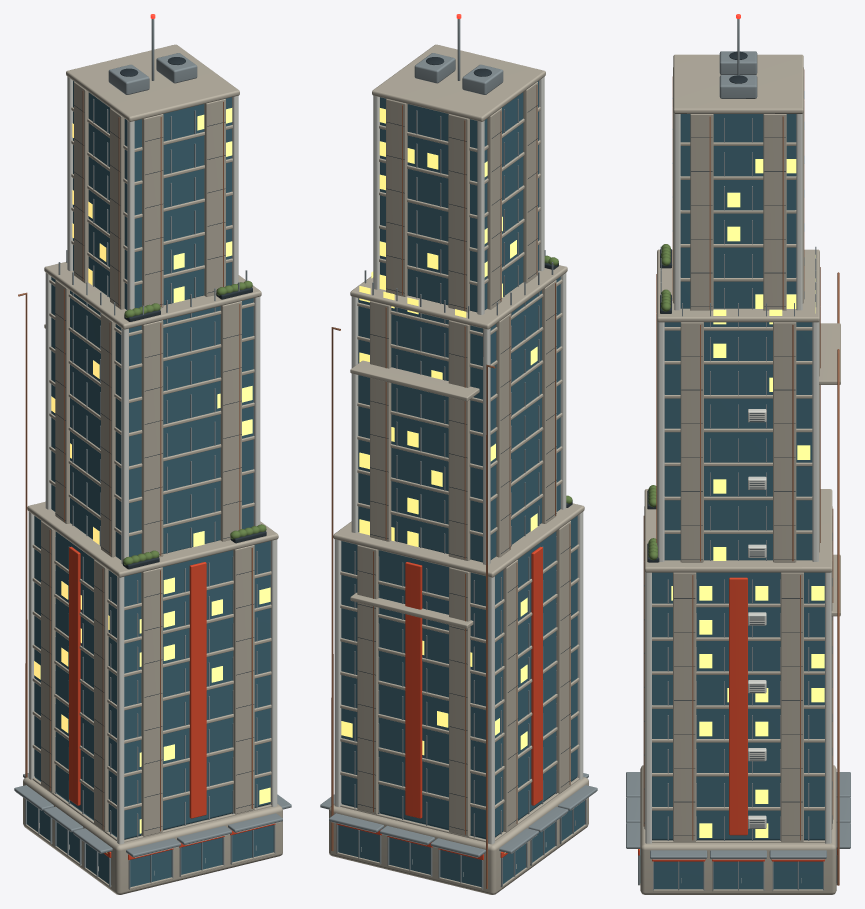
File: tower-3.glb
The picture shows the model from 3 angles, left to right: view 1: azimuth 30°, elevation 25°; view 2: azimuth 150°, elevation 25°; view 3: azimuth 270°, elevation 25°; orthographic projection.
Visible parts, largest first — view 1: NC mineral concrete.003, NC sapphire glazing.003, NC ceramic ivory.003, NC brushed titanium.003, NC vermilion.001, NC oxidized copper.003, NC amber.003, NC graphite.003, NC foliage.003; view 2: NC mineral concrete.003, NC sapphire glazing.003, NC ceramic ivory.003, NC brushed titanium.003, NC vermilion.001, NC oxidized copper.003, NC amber.003, NC graphite.003; view 3: NC mineral concrete.003, NC sapphire glazing.003, NC ceramic ivory.003, NC brushed titanium.003, NC oxidized copper.003, NC vermilion.001, NC amber.003, NC graphite.003, NC foliage.003.
Part boxes in pixels (x1=…): NC mineral concrete.003: x1=23, y1=44, x2=282, y2=894; NC sapphire glazing.003: x1=27, y1=81, x2=273, y2=887; NC ceramic ivory.003: x1=16, y1=77, x2=280, y2=875; NC brushed titanium.003: x1=14, y1=19, x2=291, y2=889; NC vermilion.001: x1=69, y1=546, x2=275, y2=859; NC oxidized copper.003: x1=18, y1=91, x2=252, y2=831; NC amber.003: x1=34, y1=108, x2=270, y2=853; NC graphite.003: x1=41, y1=57, x2=266, y2=830; NC foliage.003: x1=123, y1=280, x2=266, y2=565; NC mineral concrete.003: x1=329, y1=44, x2=588, y2=894; NC sapphire glazing.003: x1=338, y1=81, x2=584, y2=887; NC ceramic ivory.003: x1=331, y1=77, x2=595, y2=876; NC brushed titanium.003: x1=320, y1=19, x2=597, y2=889; NC vermilion.001: x1=336, y1=546, x2=542, y2=859; NC oxidized copper.003: x1=331, y1=85, x2=570, y2=888; NC amber.003: x1=341, y1=108, x2=537, y2=853; NC graphite.003: x1=357, y1=57, x2=572, y2=830; NC mineral concrete.003: x1=638, y1=54, x2=840, y2=894; NC sapphire glazing.003: x1=640, y1=114, x2=836, y2=889; NC ceramic ivory.003: x1=645, y1=114, x2=831, y2=882; NC brushed titanium.003: x1=626, y1=19, x2=850, y2=890; NC oxidized copper.003: x1=643, y1=69, x2=839, y2=885; NC vermilion.001: x1=638, y1=577, x2=837, y2=861; NC amber.003: x1=637, y1=159, x2=824, y2=850; NC graphite.003: x1=644, y1=51, x2=832, y2=835; NC foliage.003: x1=648, y1=244, x2=670, y2=560.
Size of the model in its own units: 24.05 by 99.2 by 24.05.
